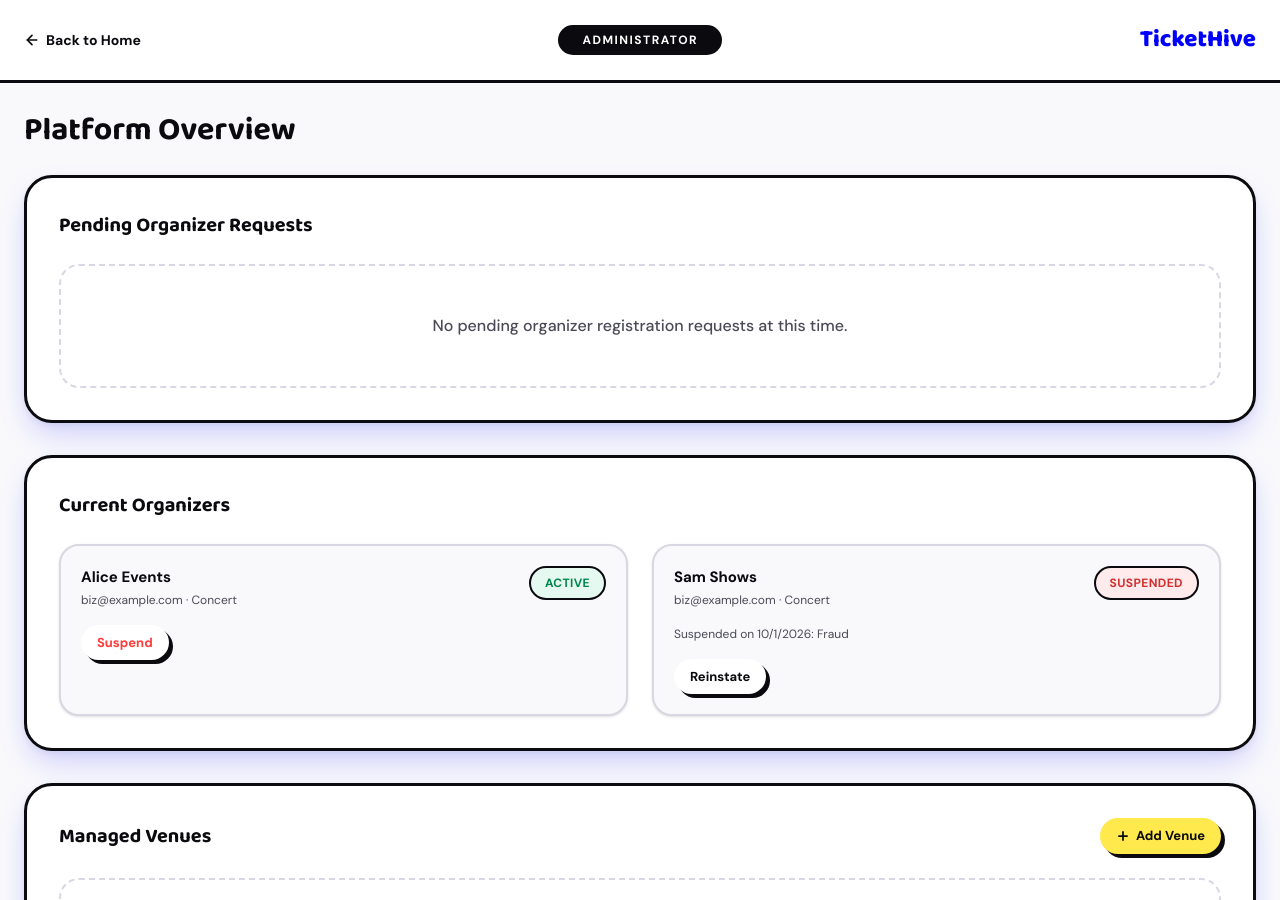
Test case: AdminDashboard organizer suspension › tells the admin when their session expired (401) or they lack permission (403)
Click the button with aria-label "Suspend Alice Events" at {"x": 125, "y": 642}, box [81,624,169,660]
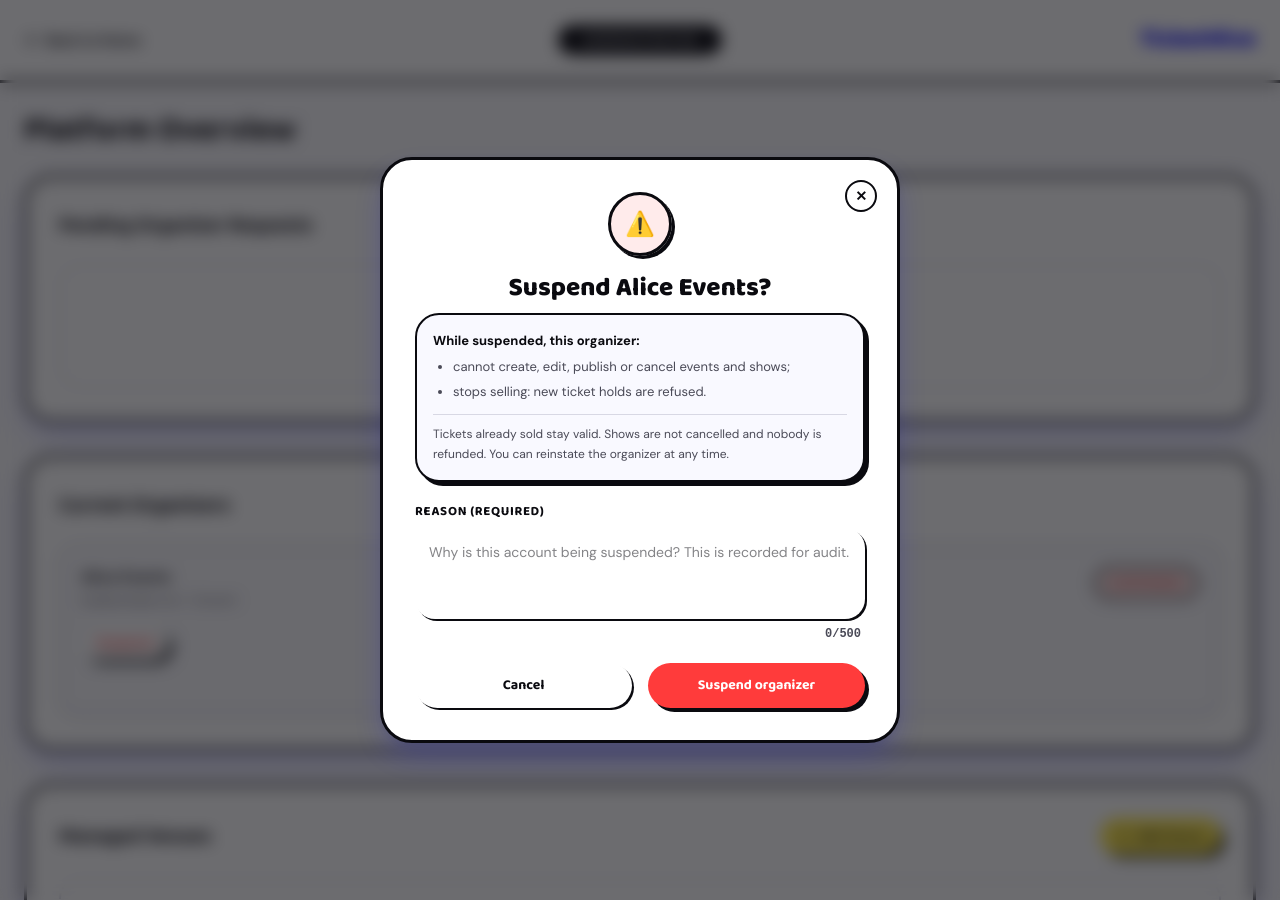
Type "Fraud" into the text box labelled "Reason (required)" at {"x": 640, "y": 573}, box [415,528,865,619]
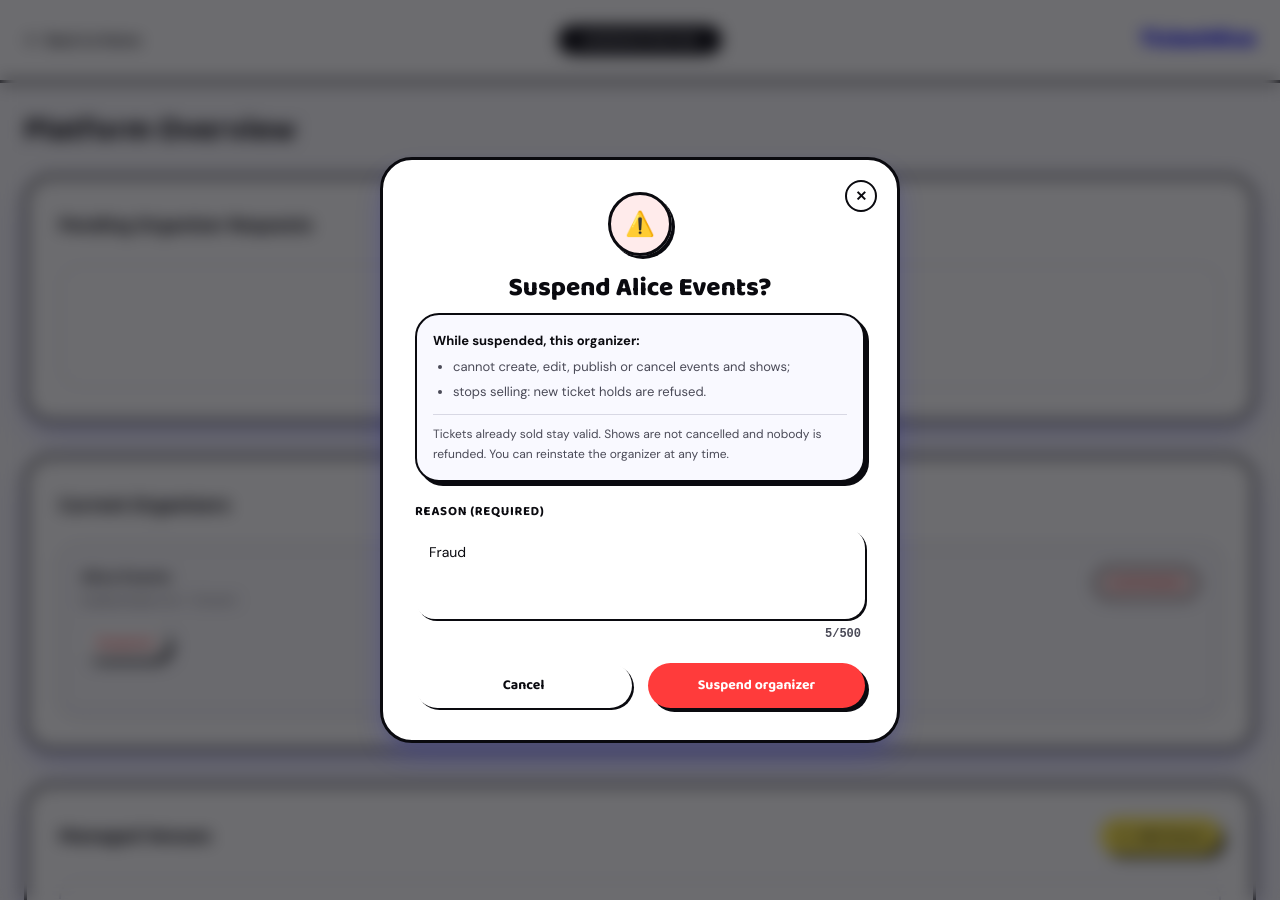
Click the button "Suspend organizer" at {"x": 756, "y": 685}, box [648,663,865,708]
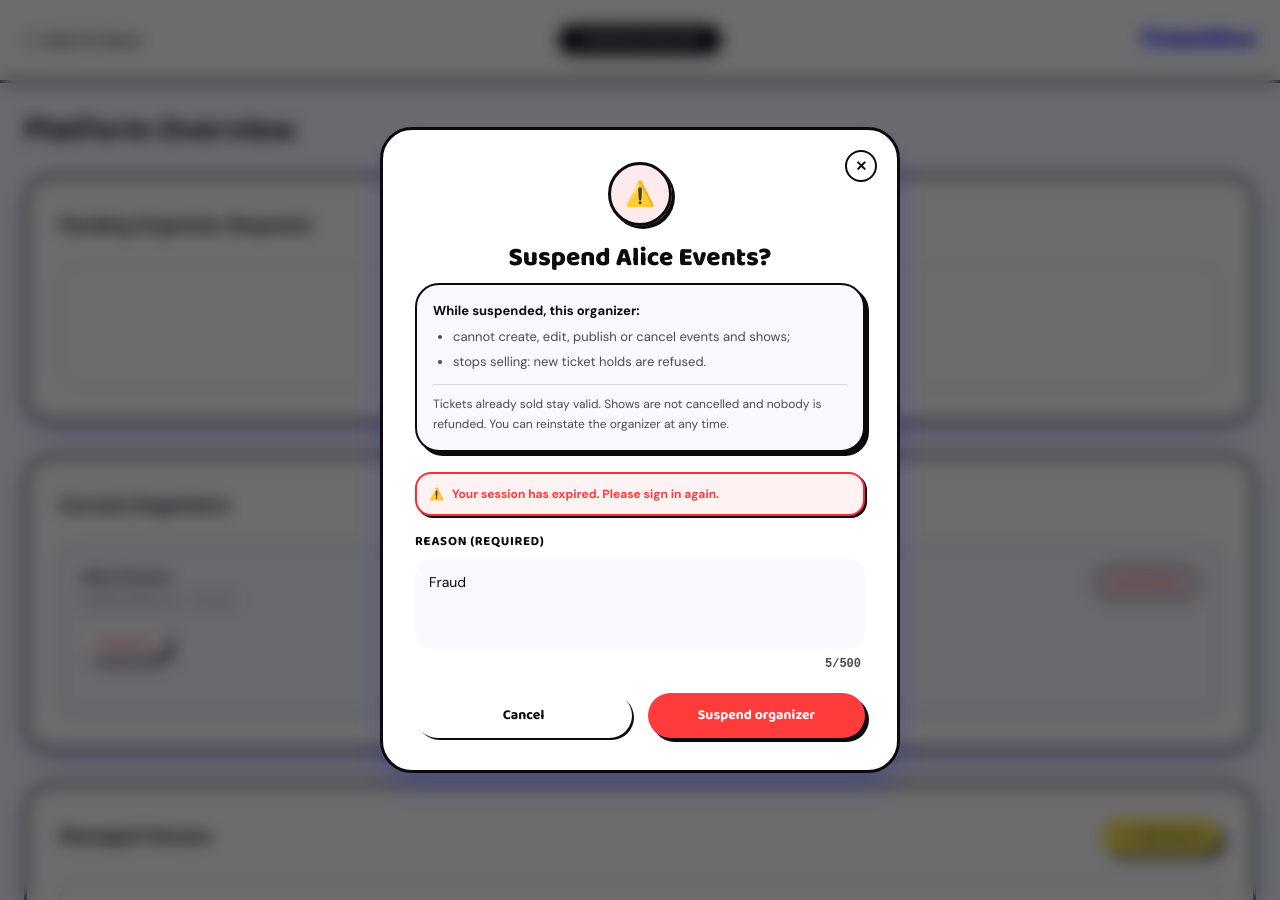
Now the text "Your session has expired. Please sign in again." is shown, box [452,486,719,502]
